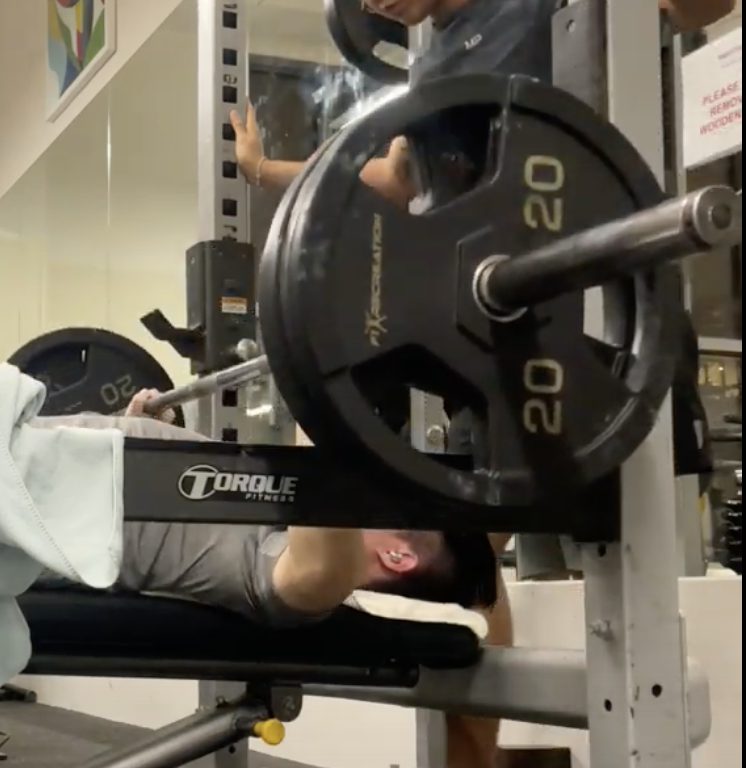barbell: (695, 186, 744, 247)
